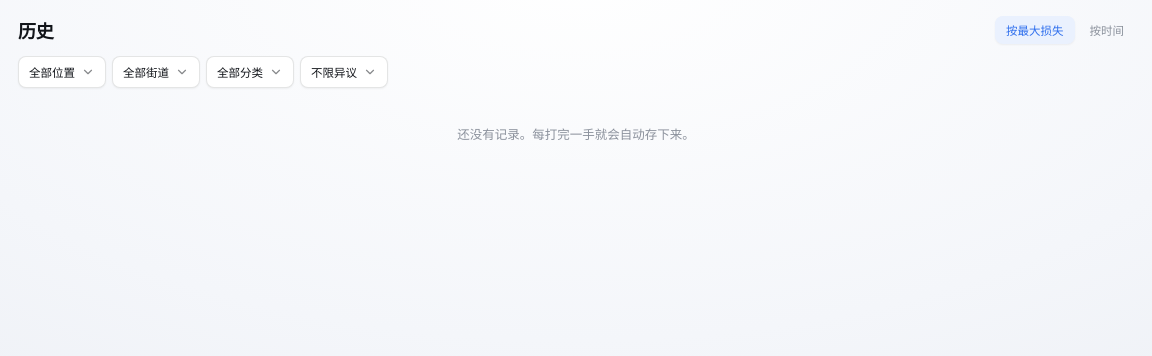
Test: 四种空列表说四种话 › 筛没了时说的是另一句
The image size is (1152, 356).
Click the dropdown named "按位置筛选": click(62, 72) [18,56,106,88]
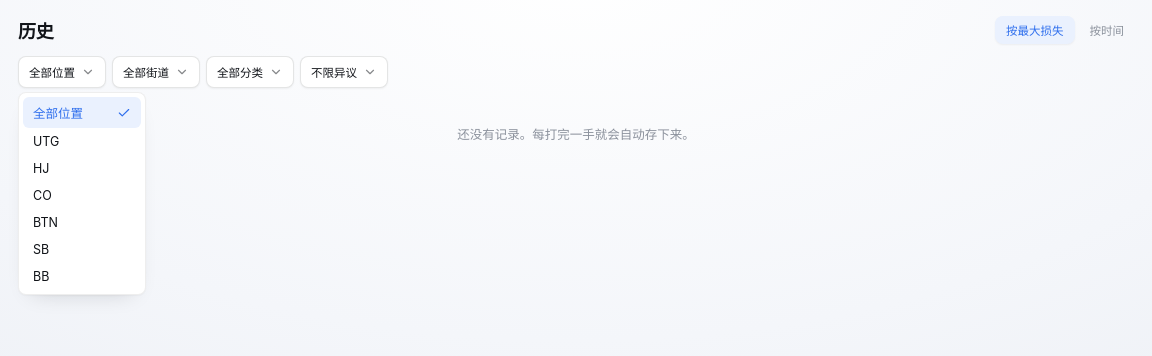
Click the option "UTG": click(46, 142) [33,134,59,149]
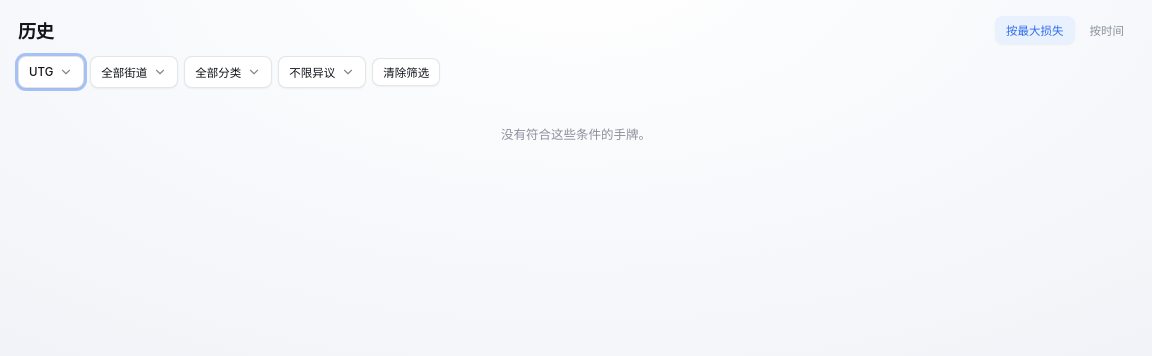
Expected: the text "没有符合这些条件的手牌。" is shown, [501,127,651,142]
